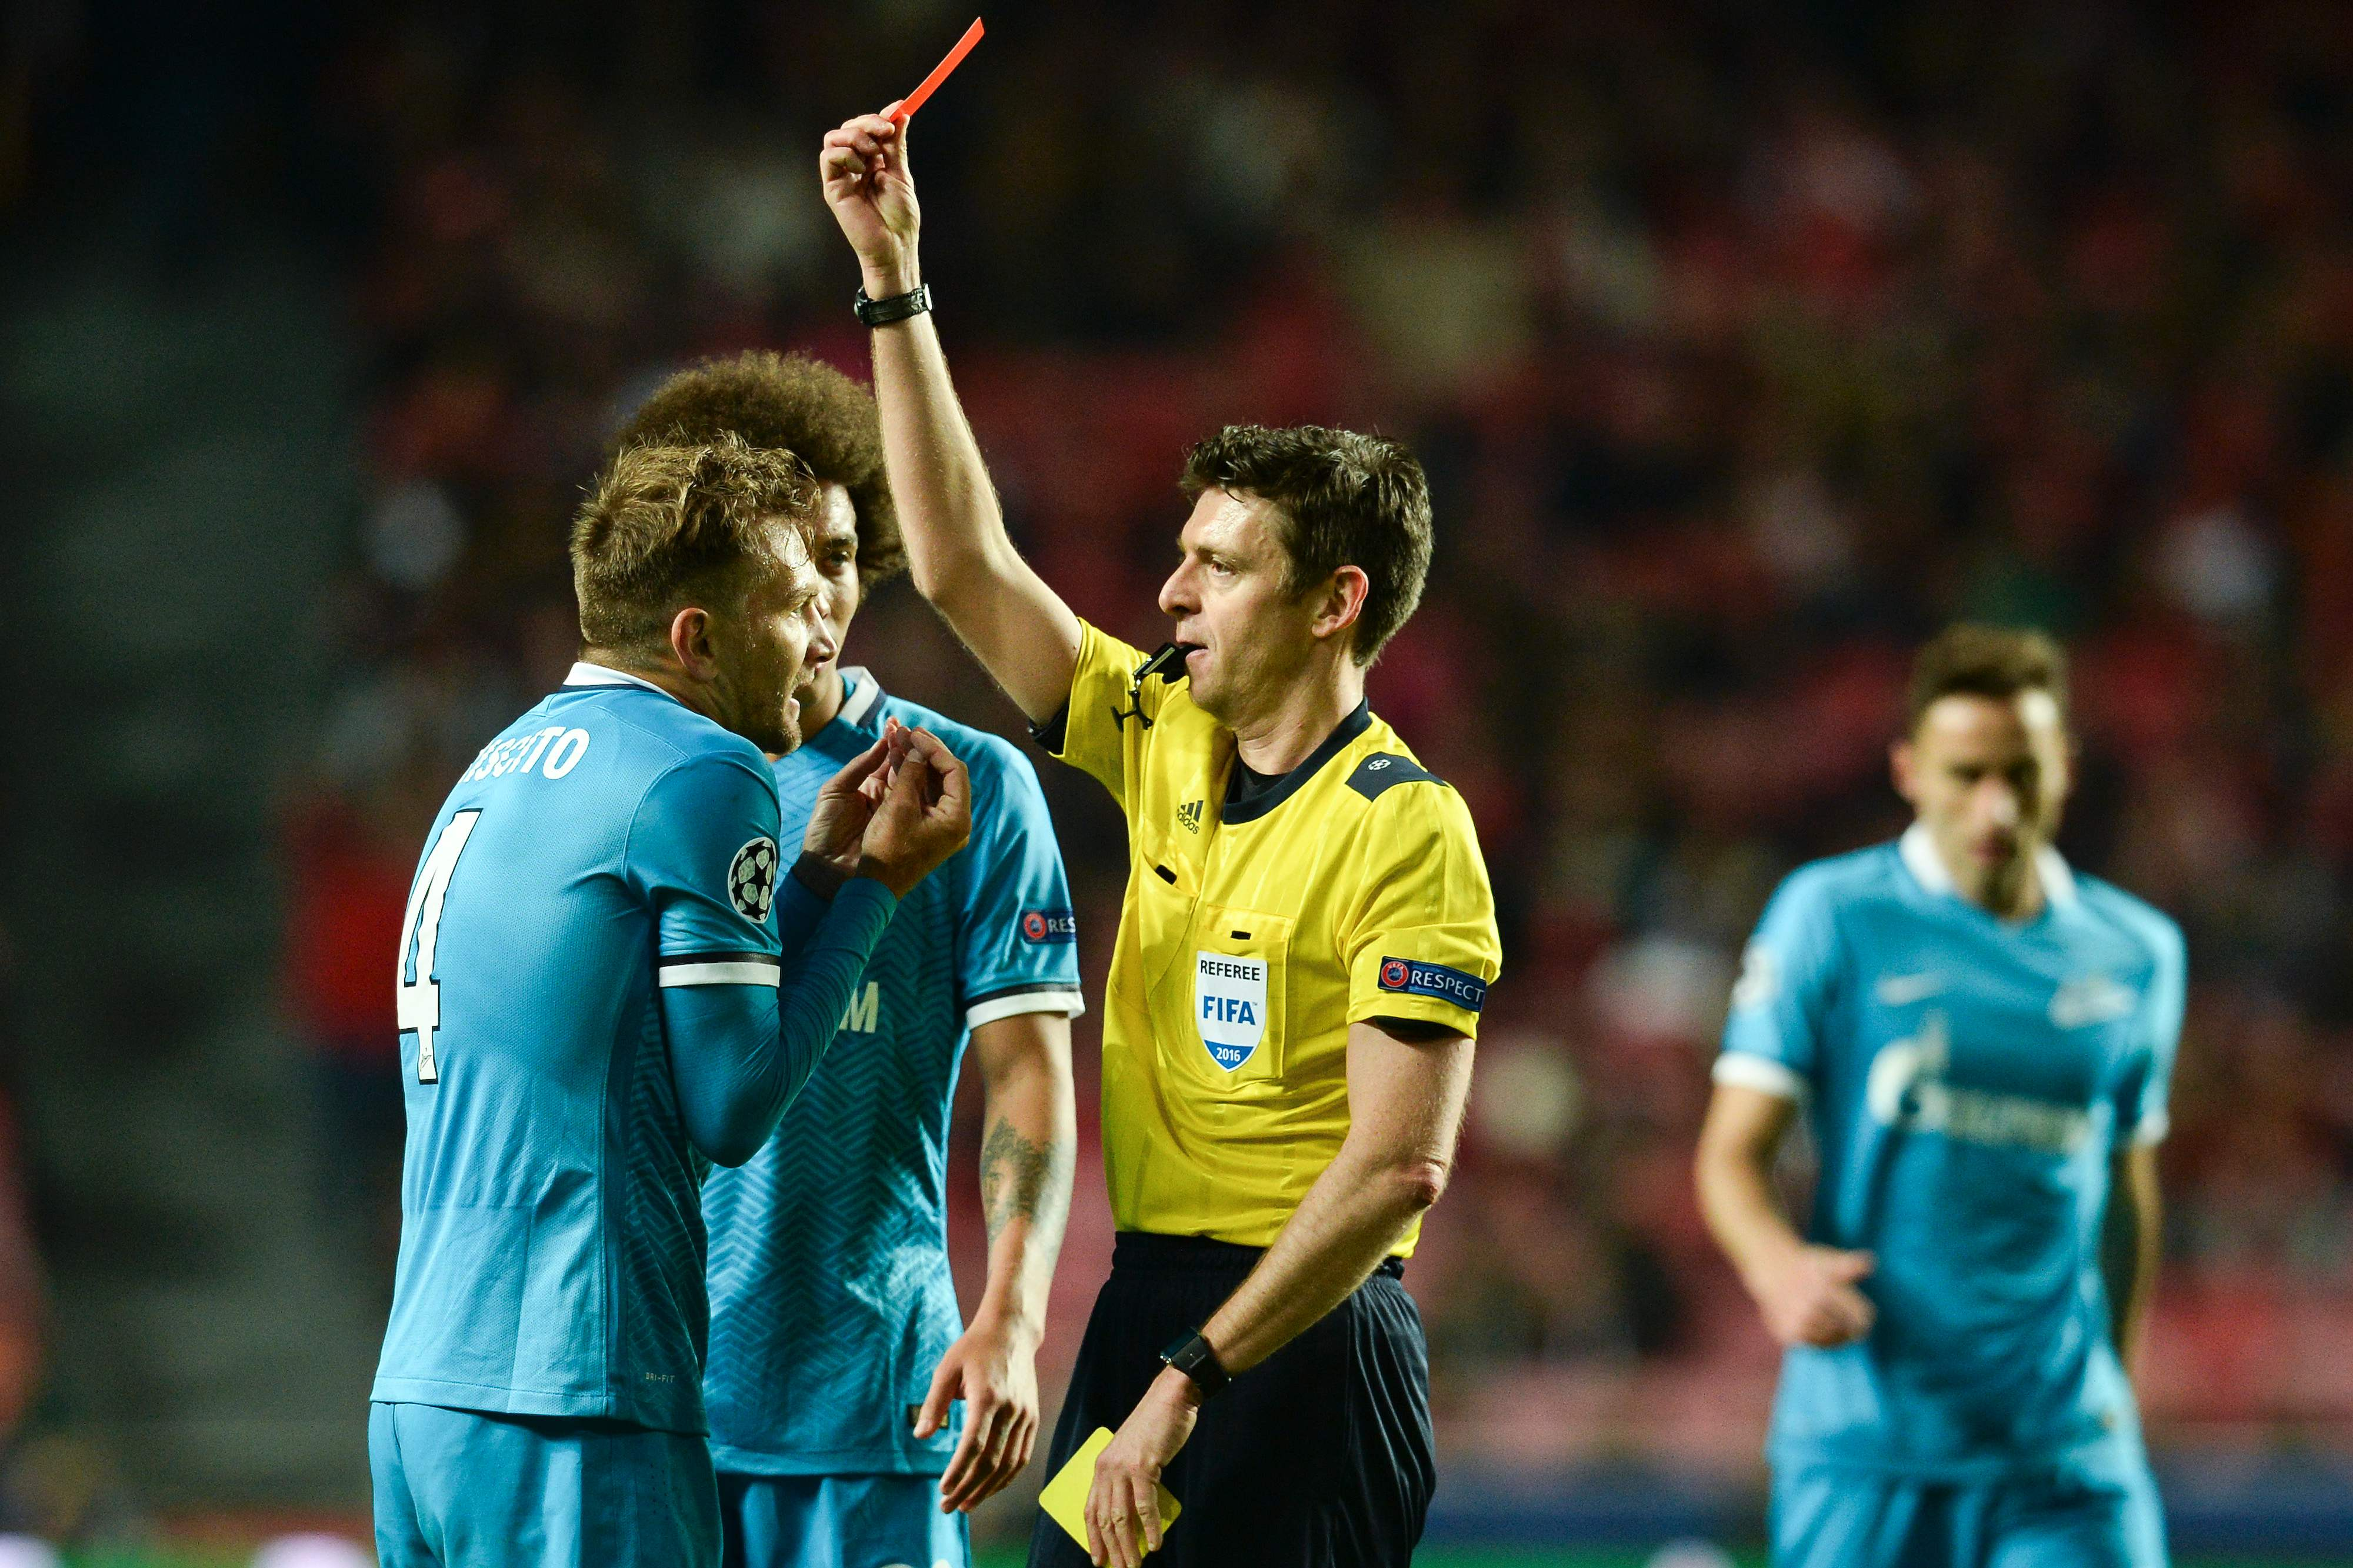red_card: (787, 23, 1023, 219)
